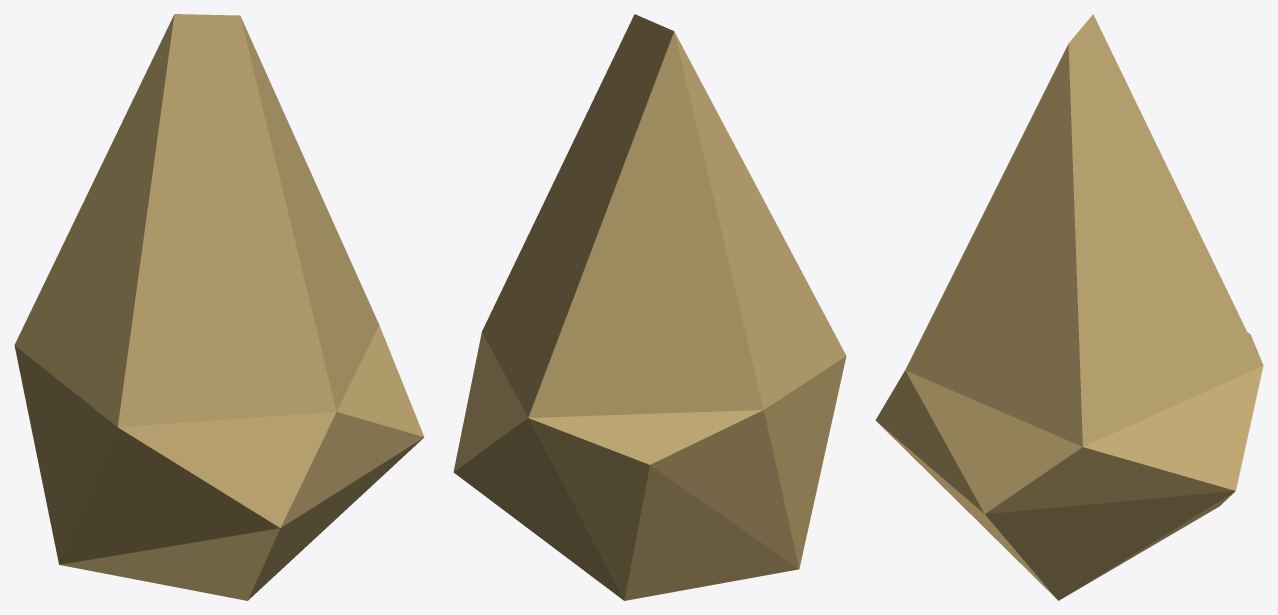
Rendered from Ballon_Poire_Bag_FBX.fbx.
The picture shows the model from 3 angles, left to right: view 1: azimuth 30°, elevation 25°; view 2: azimuth 150°, elevation 25°; view 3: azimuth 270°, elevation 25°; orthographic projection. The views are drawn at different scales.
Visible parts, largest first — view 1: Ballon Poire Bag; view 2: Ballon Poire Bag; view 3: Ballon Poire Bag.
Boxes of the visible parts, <box> form: Ballon Poire Bag: <box>14,14,424,600</box>; Ballon Poire Bag: <box>453,14,846,600</box>; Ballon Poire Bag: <box>875,14,1263,600</box>.
Size of the model in its own units: 190 by 328 by 206.
